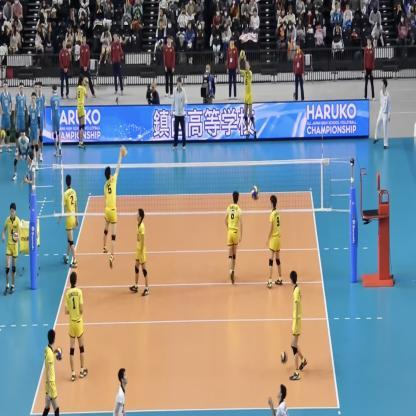spike: (100, 143, 127, 271)
